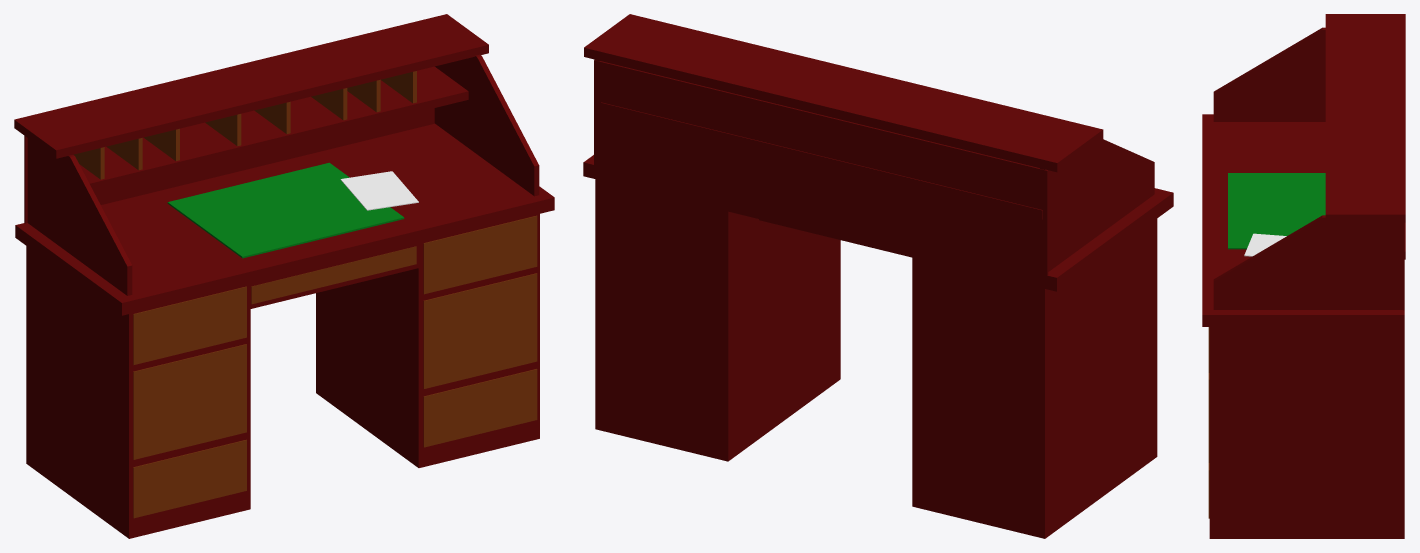
Rendered from desk.obj.
The picture shows the model from 3 angles, left to right: view 1: azimuth 30°, elevation 25°; view 2: azimuth 150°, elevation 25°; view 3: azimuth 270°, elevation 25°; orthographic projection. The views are drawn at different scales.
Parts seen in each view (by area): view 1: desktop, left_pillar, top, right_pillar, blotter, shelf, middle_right_drawer, middle_left_drawer, left_top, right_top, bottom_right_drawer, top_right_drawer (+14 smaller); view 2: left_pillar, right_pillar, back, top, desktop, left_top, shelf; view 3: right_pillar, top, right_top, desktop, left_top, blotter, paper.
Part boxes in pixels (x1,y1,x2,y2): desktop: (15, 123, 554, 315); left_pillar: (26, 246, 250, 538); top: (14, 14, 488, 158); right_pillar: (316, 214, 539, 467); blotter: (167, 162, 404, 258); shelf: (79, 66, 468, 191); middle_right_drawer: (423, 273, 537, 388); middle_left_drawer: (133, 344, 246, 459); left_top: (27, 138, 132, 295); right_top: (434, 54, 539, 196); bottom_right_drawer: (423, 369, 537, 447); top_right_drawer: (423, 215, 537, 294); left_pillar: (912, 219, 1157, 538); right_pillar: (595, 179, 840, 461); back: (594, 60, 1048, 276); top: (584, 14, 1103, 172); desktop: (583, 155, 1173, 291); left_top: (1040, 139, 1154, 271); shelf: (600, 102, 1042, 219); right_pillar: (1209, 327, 1404, 538); top: (1325, 14, 1405, 222); right_top: (1213, 215, 1404, 309); desktop: (1202, 114, 1404, 326); left_top: (1213, 27, 1325, 121); blotter: (1228, 173, 1325, 249); paper: (1244, 233, 1286, 256).
Size of the model in its own units: 5.36 by 4.09 by 2.29.
